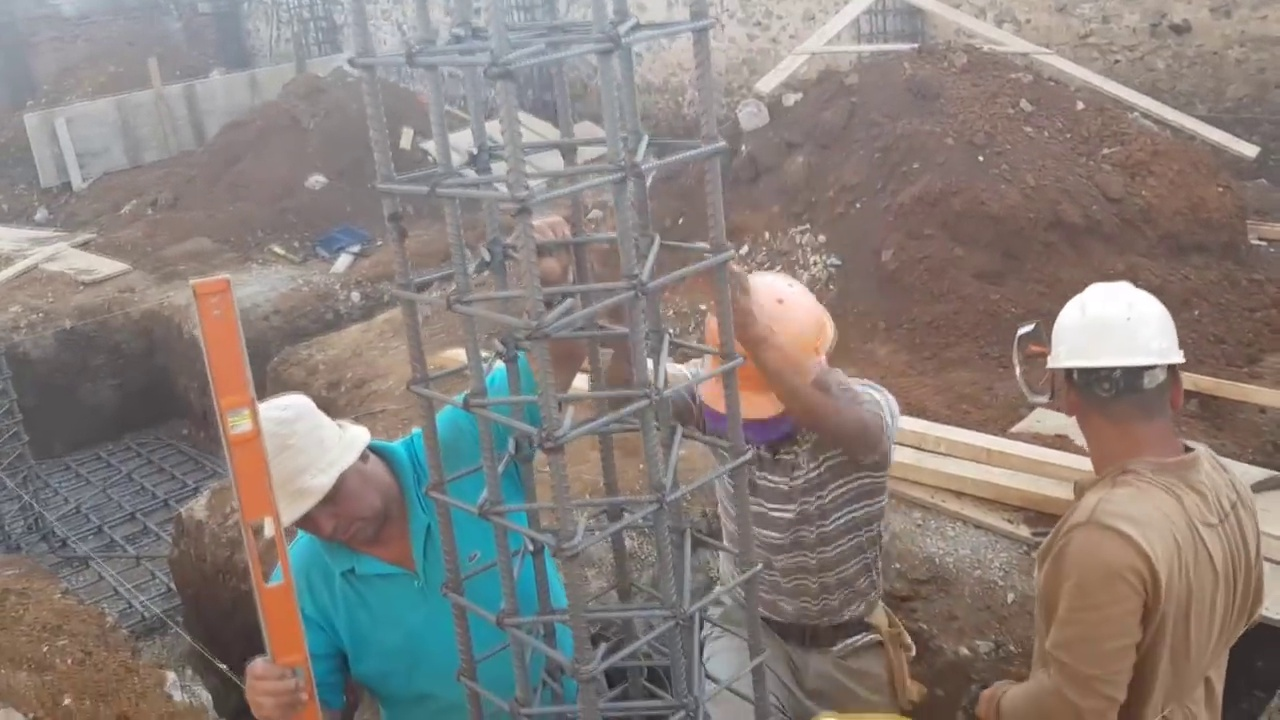helmet: (680, 268, 845, 417), (1042, 277, 1197, 399)
helmet-off: (244, 398, 420, 576)
helmet-on: (1036, 281, 1200, 474), (679, 268, 841, 450)
person: (249, 214, 582, 719), (604, 255, 903, 720), (980, 266, 1267, 719)
